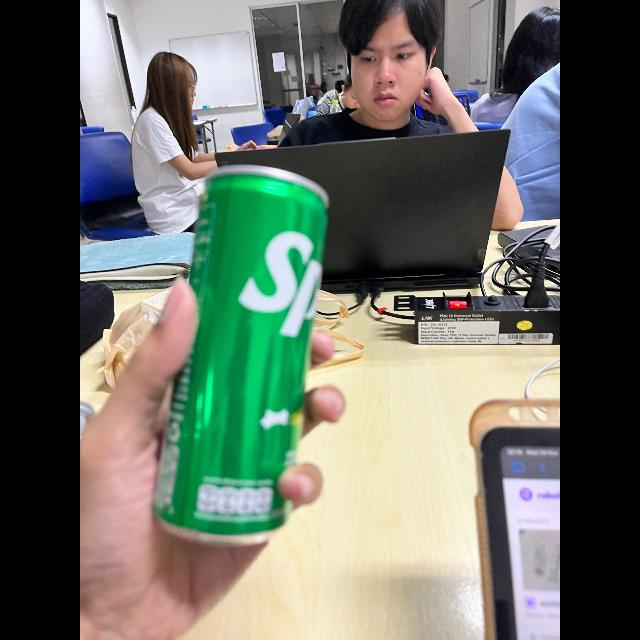can: (152, 156, 338, 554)
